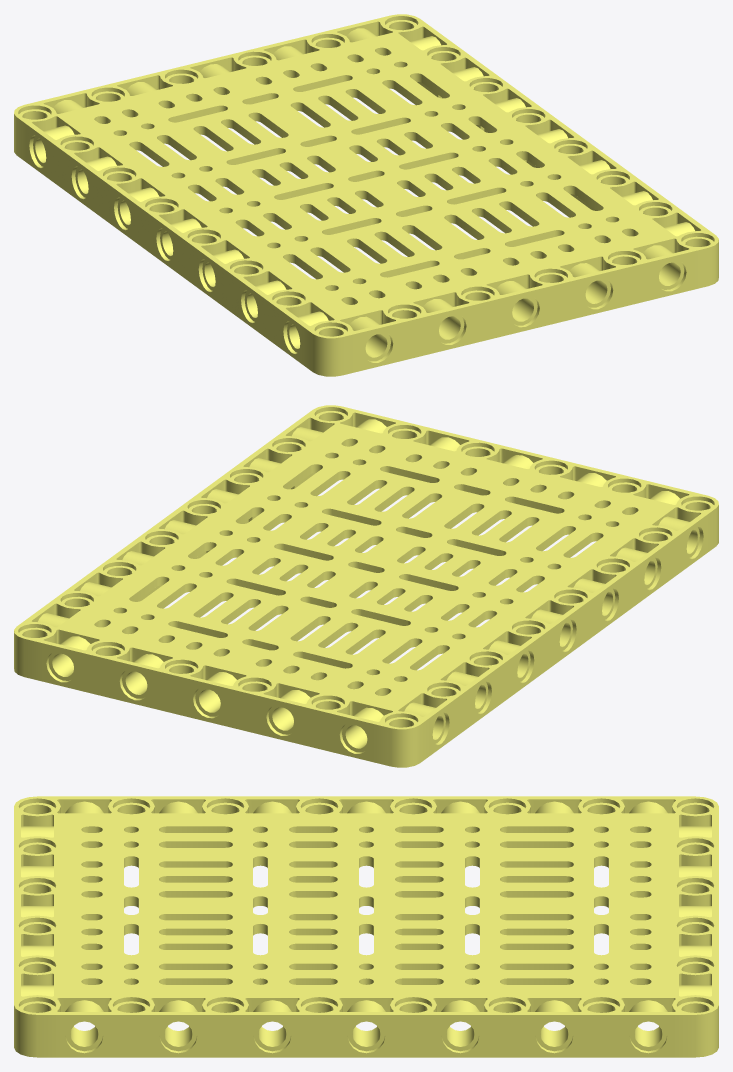
The picture shows the model from 3 angles, top to bottom: view 1: azimuth 30°, elevation 25°; view 2: azimuth 150°, elevation 25°; view 3: azimuth 270°, elevation 25°; orthographic projection. The views are drawn at different scales.
Visible parts, largest first — view 1: 65817.dat; view 2: 65817.dat; view 3: 65817.dat.
Boxes of the visible parts, x1,y1,x2,y2 form: 65817.dat: (14, 14, 718, 376); 65817.dat: (14, 405, 718, 767); 65817.dat: (14, 796, 718, 1057).
Size of the model in its own units: 0.088 by 0.008 by 0.12.
